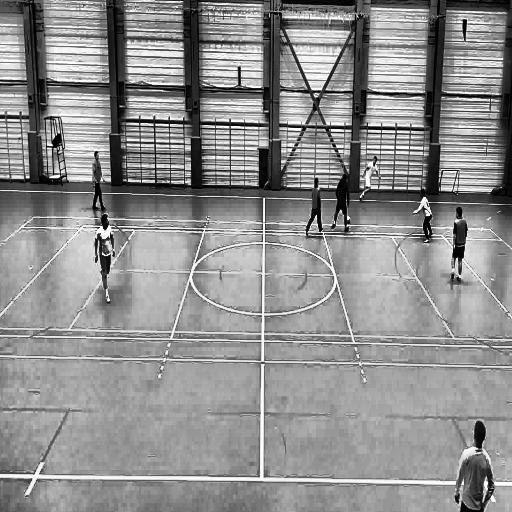ball: (345, 212, 351, 226)
player: (455, 410, 496, 512), (94, 216, 116, 308), (448, 205, 468, 284), (411, 186, 434, 247), (358, 154, 382, 207), (304, 176, 324, 239), (330, 170, 349, 236), (91, 145, 106, 213)
